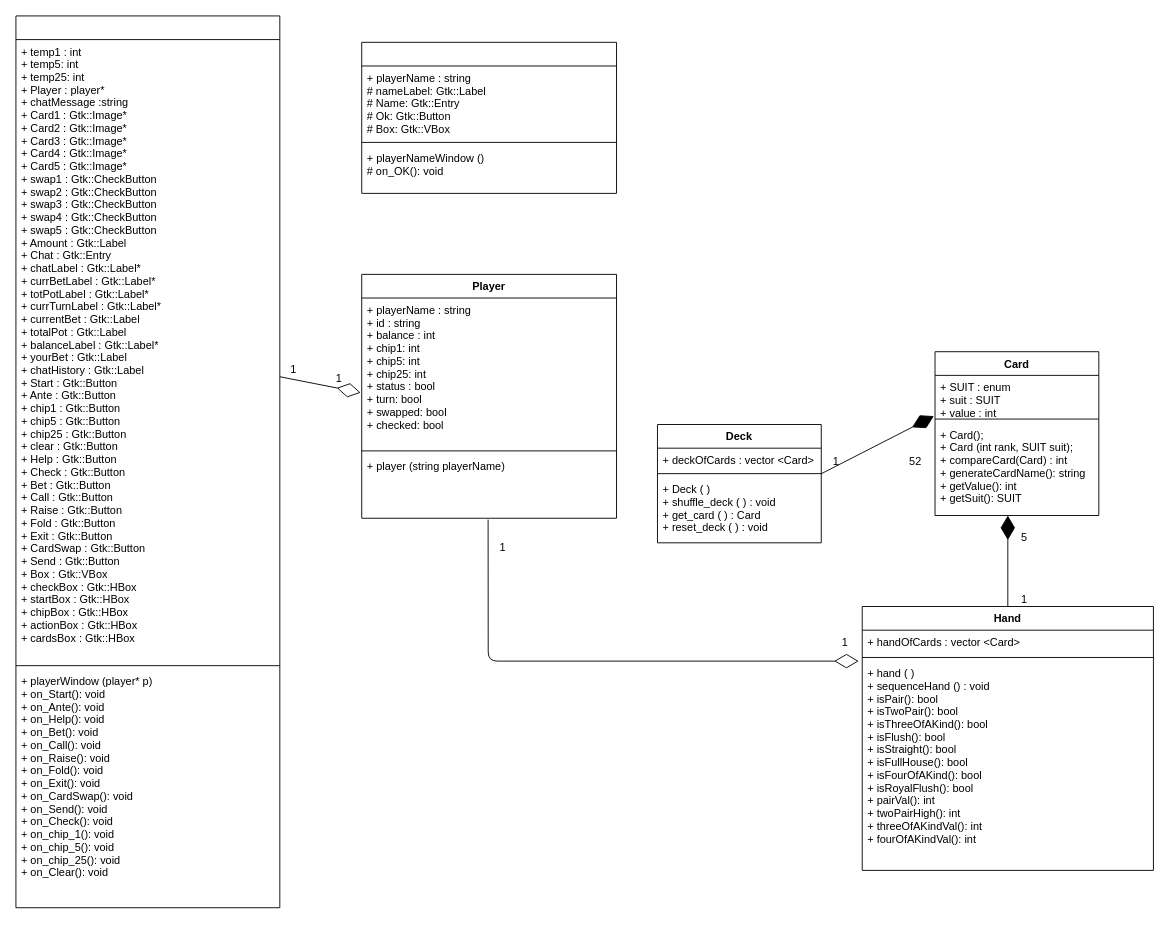
Some shapes in this 1169 by 926 pixel diagram are drawn without their labels. Here are the shapes that lost their labels. From the top down, the box of each, then its label:
(361, 41, 617, 193): playerNameWindow: public Gtk::Window
(15, 15, 280, 908): playerWindow: public Gtk::Window
